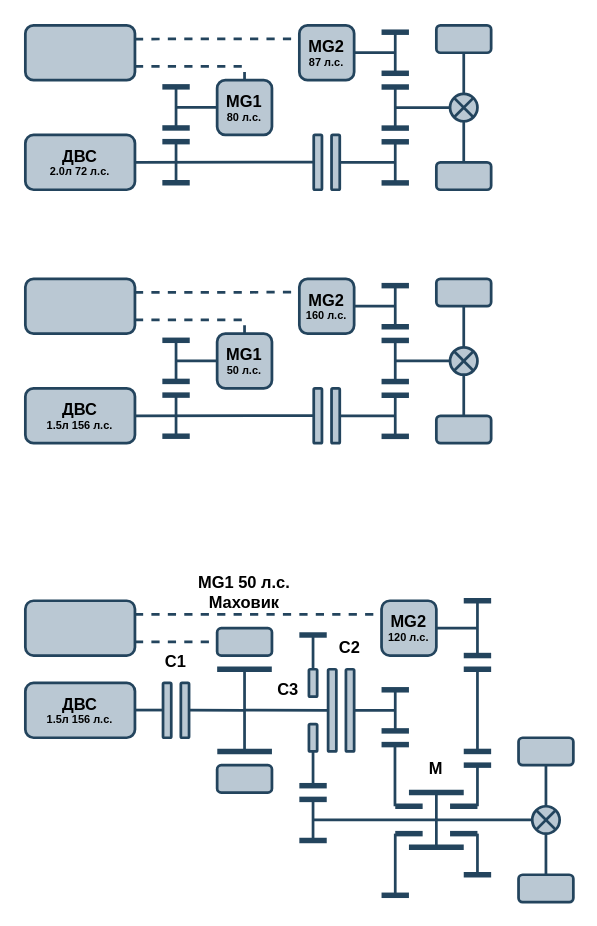
Some shapes in this 597 by 926 pixel diagram are drawn without their labels. The shapes that lost their labels are listed below. From the top down, each one's centre as x and y in pixels, then its label:
At point (79, 52): "Li-ion 1.3кВТч 260В".
At point (79, 305): "Li-ion 19кВТч 352В".
At point (79, 627): "LFP 19кВТч 400В".
